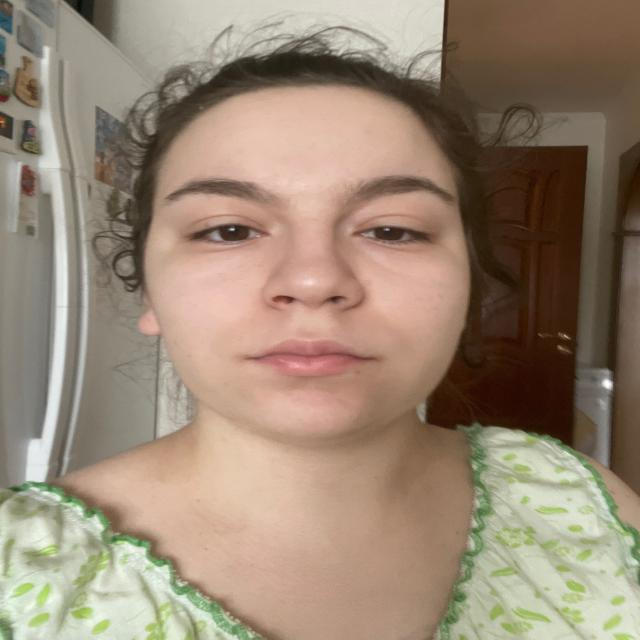eyebrow: (163, 177, 287, 210), (342, 176, 452, 206)
